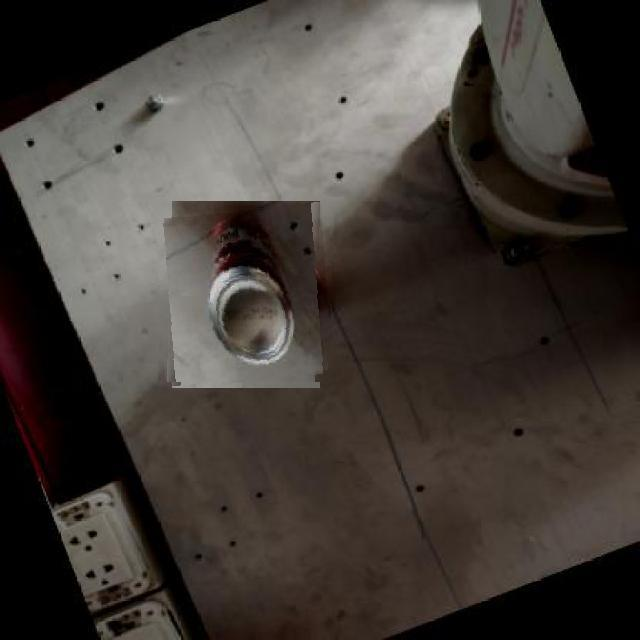recyclable: (158, 206, 334, 382)
